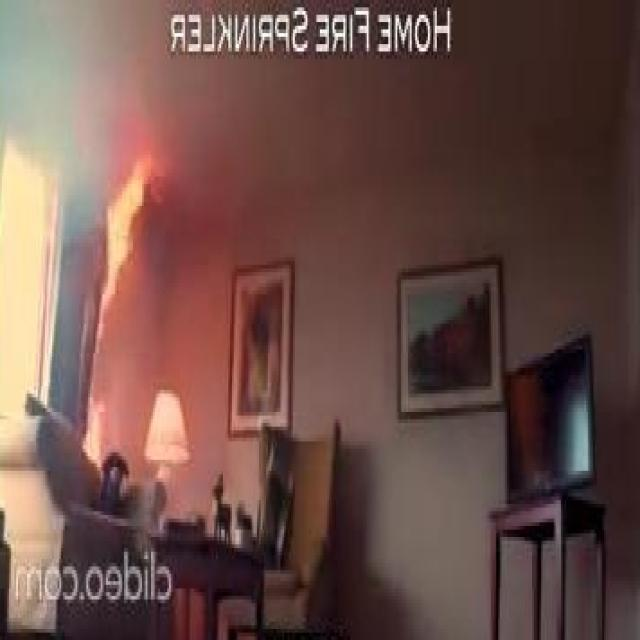smoke: (100, 156, 148, 318), (75, 404, 118, 468)
